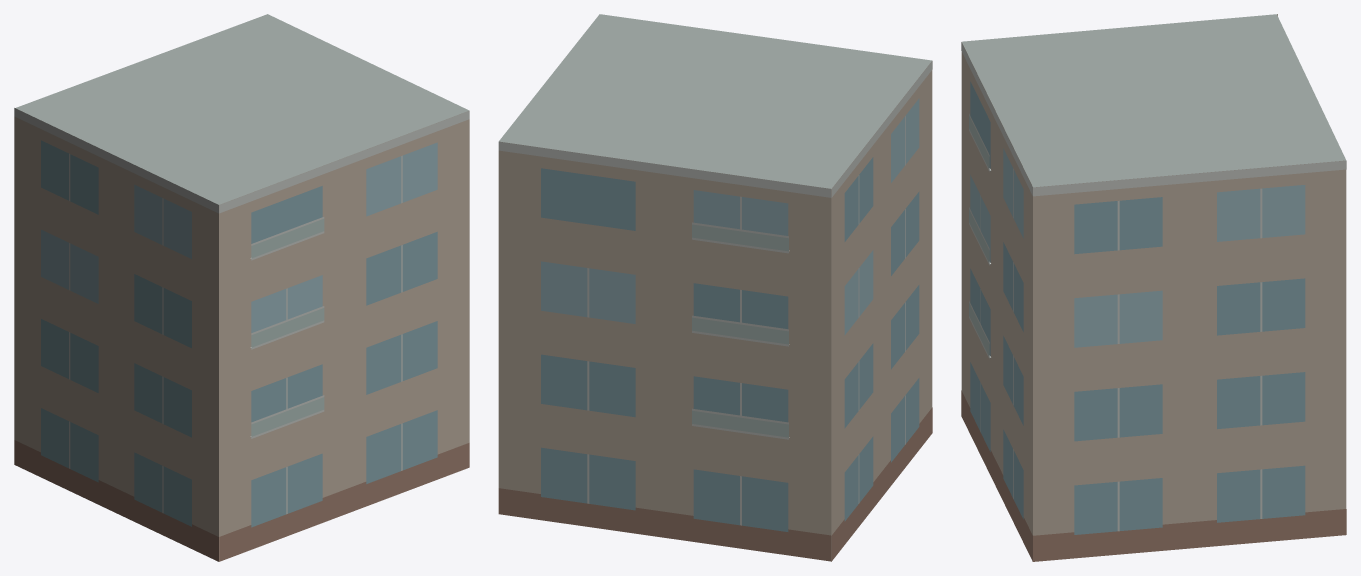
File: survey-upis-32698884.glb
The picture shows the model from 3 angles, left to right: view 1: azimuth 30°, elevation 25°; view 2: azimuth 150°, elevation 25°; view 3: azimuth 270°, elevation 25°; orthographic projection. The views are drawn at different scales.
Parts seen in each view (by area): view 1: survey-upis-32698884.tmp; view 2: survey-upis-32698884.tmp; view 3: survey-upis-32698884.tmp.
Boxes of the visible parts, box(x1,y1,x2,y2) form: survey-upis-32698884.tmp: box(14, 14, 469, 561); survey-upis-32698884.tmp: box(498, 14, 932, 561); survey-upis-32698884.tmp: box(961, 14, 1346, 561).
Size of the model in its own units: 10.04 by 10.1 by 9.42.
